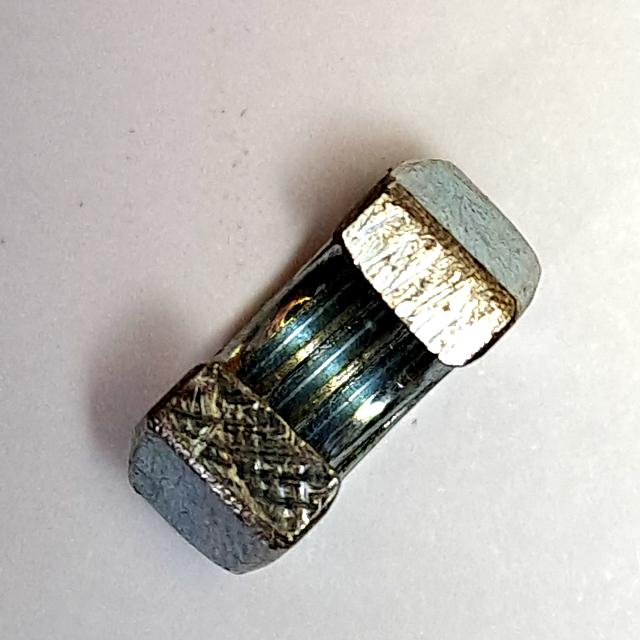Side-Fracture: (122, 143, 554, 589)
